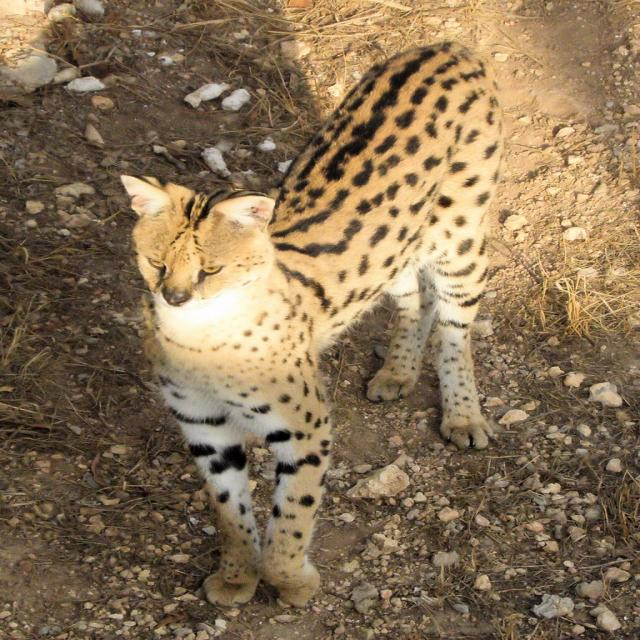Cheetah: (121, 39, 506, 606)
